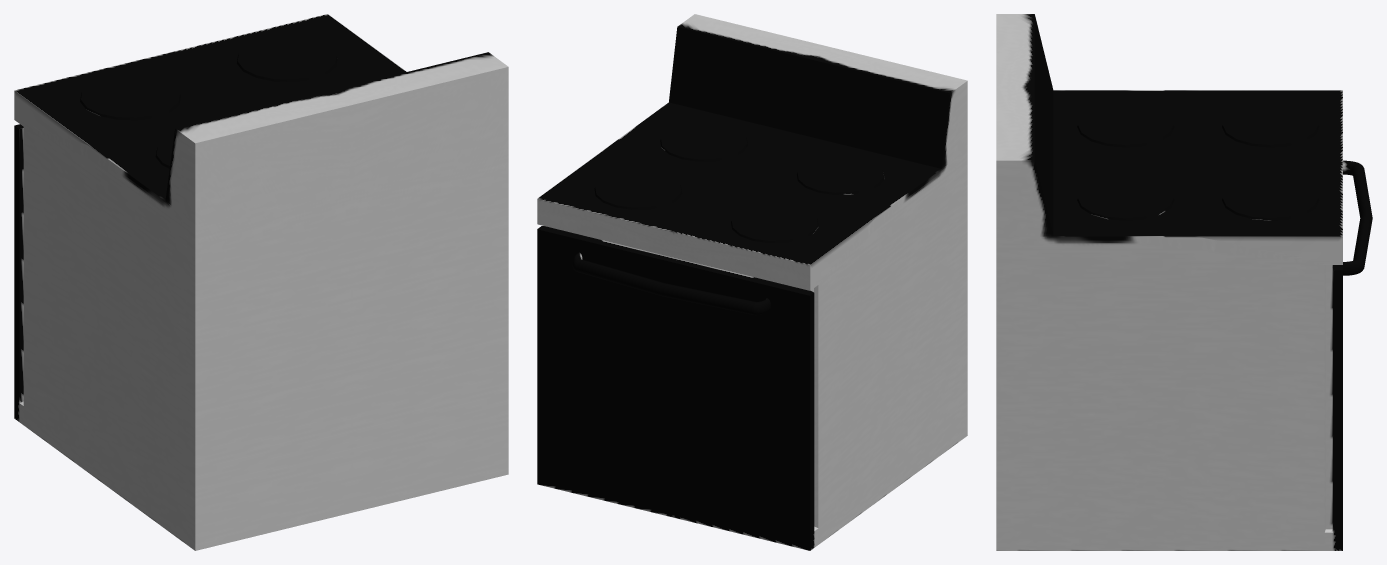
File: Range.fbx
3 renders of one model, left to right at view 1: azimuth 30°, elevation 25°; view 2: azimuth 150°, elevation 25°; view 3: azimuth 270°, elevation 25°, orthographic. The views are drawn at different scales.
Parts seen in each view (by area): view 1: Range.002; view 2: Range.002; view 3: Range.002.
Boxes of the visible parts, x1,y1,x2,y2 form: Range.002: (14,14,508,550); Range.002: (537,14,967,550); Range.002: (996,14,1372,550).
Size of the model in its own units: 1.5 by 1.63 by 1.86.
